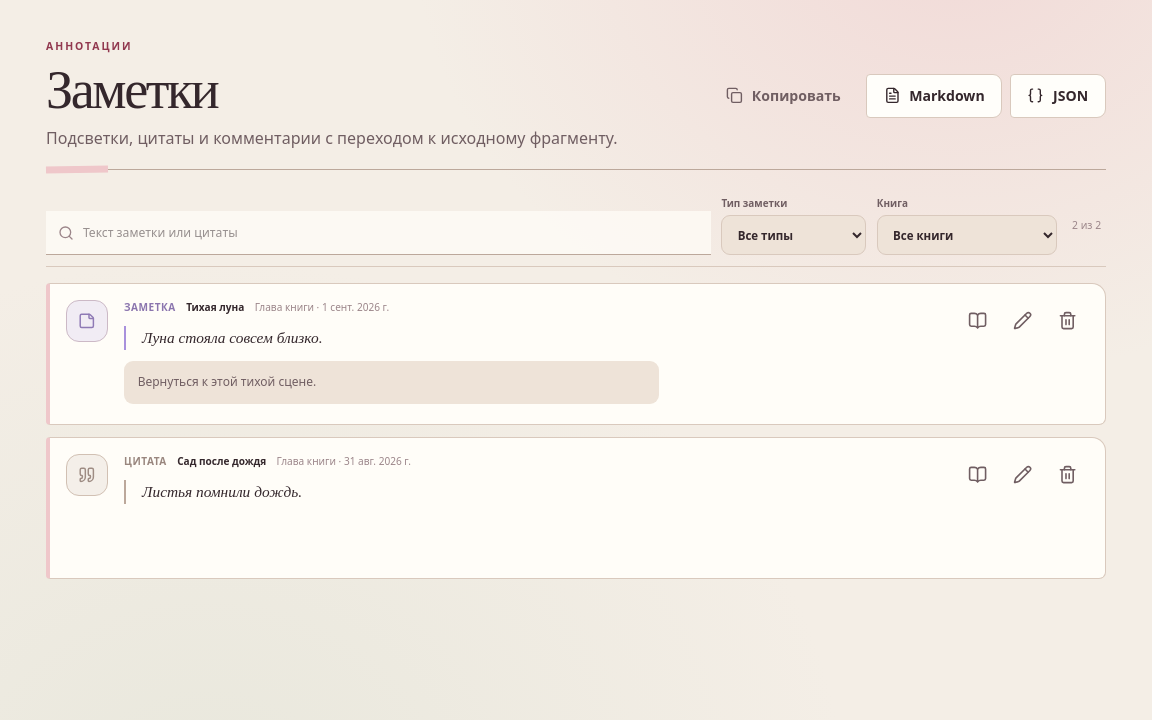
Test: notes page › searches and filters annotations while keeping exact reader links
Expected: the text "Вернуться к этой тихой сцене." is shown, [124,361,660,404]
Expected: the text "Листья помнили дождь." is shown, [124,480,677,504]
In the search field named "Поиск по заметкам": (391,233) [83,224,699,242], type "тихой"
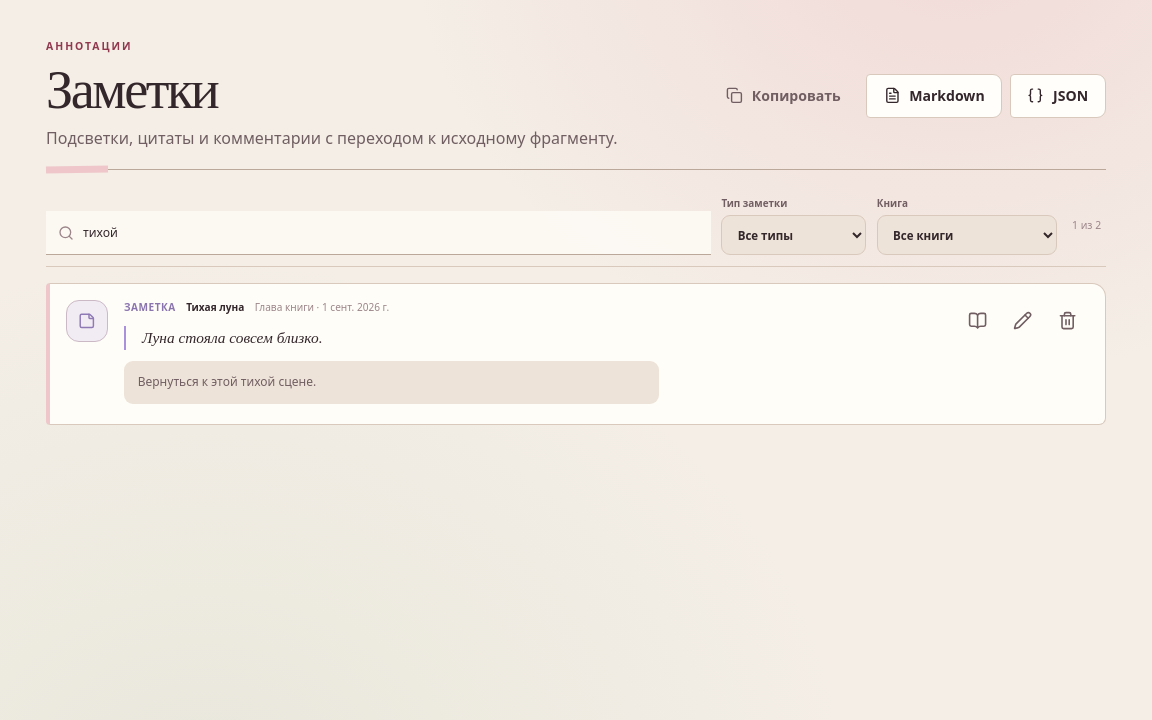
Expected: the text "Вернуться к этой тихой сцене." is shown, [124,361,660,404]
Expected: the text "Листья помнили дождь." is gone
Clear the search field named "Поиск по заметкам": (391,233) [83,224,699,242]
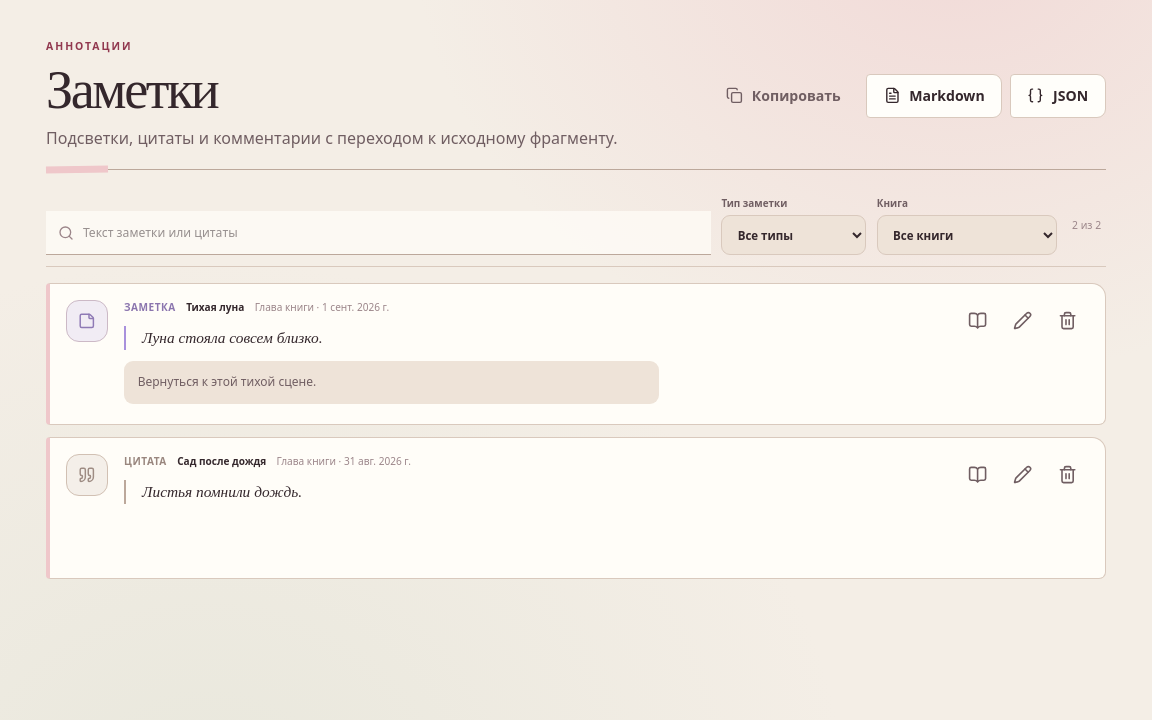
Select "Цитаты" in the dropdown labelled "Тип заметки": (794,235) [722,215,866,255]
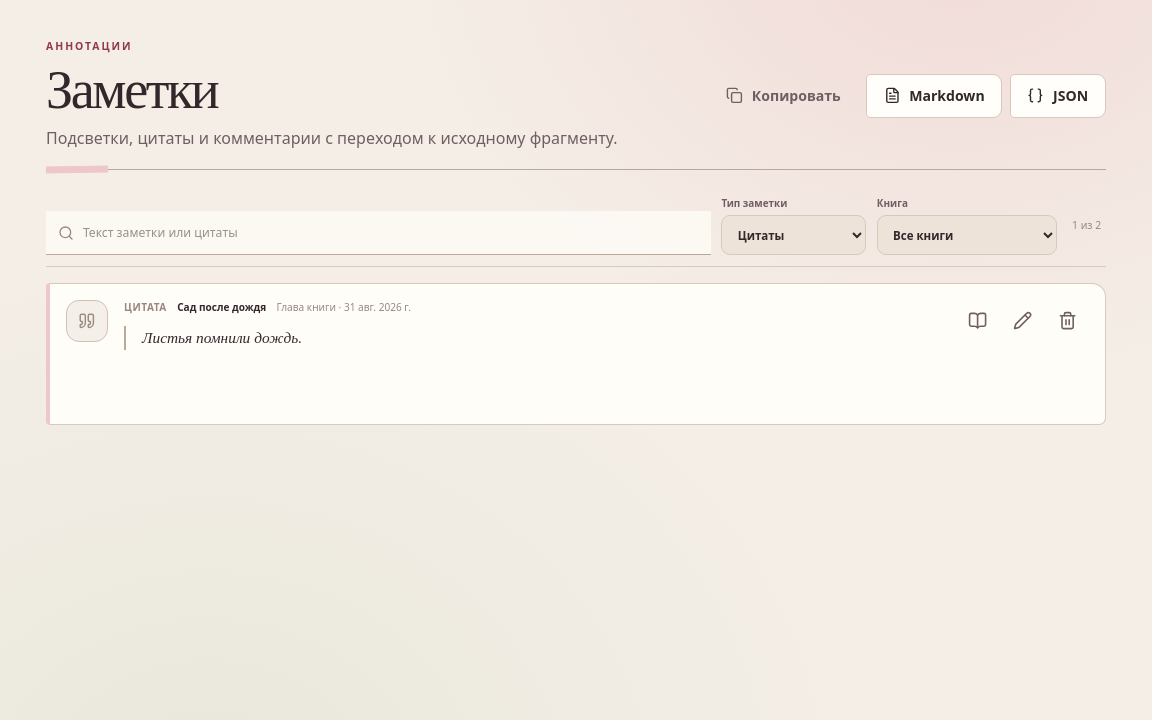
Expected: the text "Листья помнили дождь." is shown, [124,326,677,350]
Expected: the text "Вернуться к этой тихой сцене." is gone
